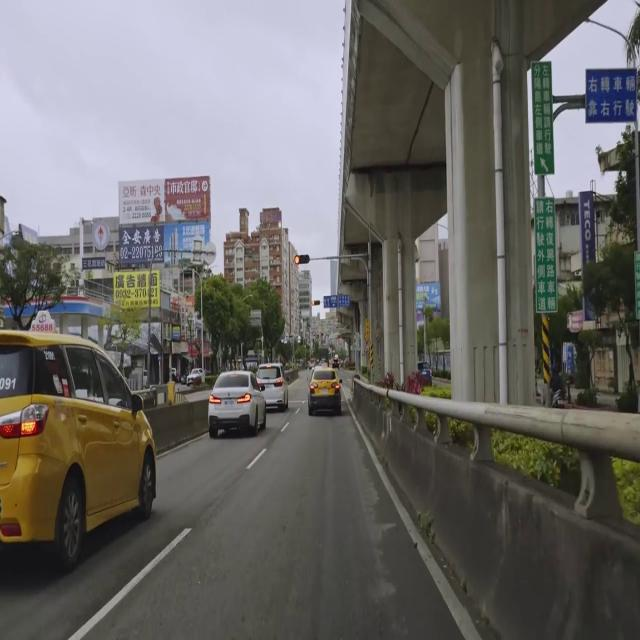red light: (294, 254, 310, 264), (311, 300, 320, 306)
